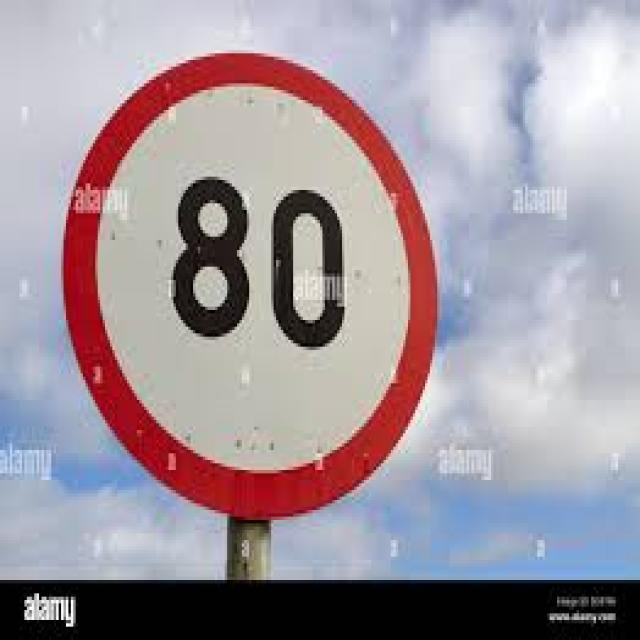SPEED_LIMIT_80: (61, 38, 447, 525)
